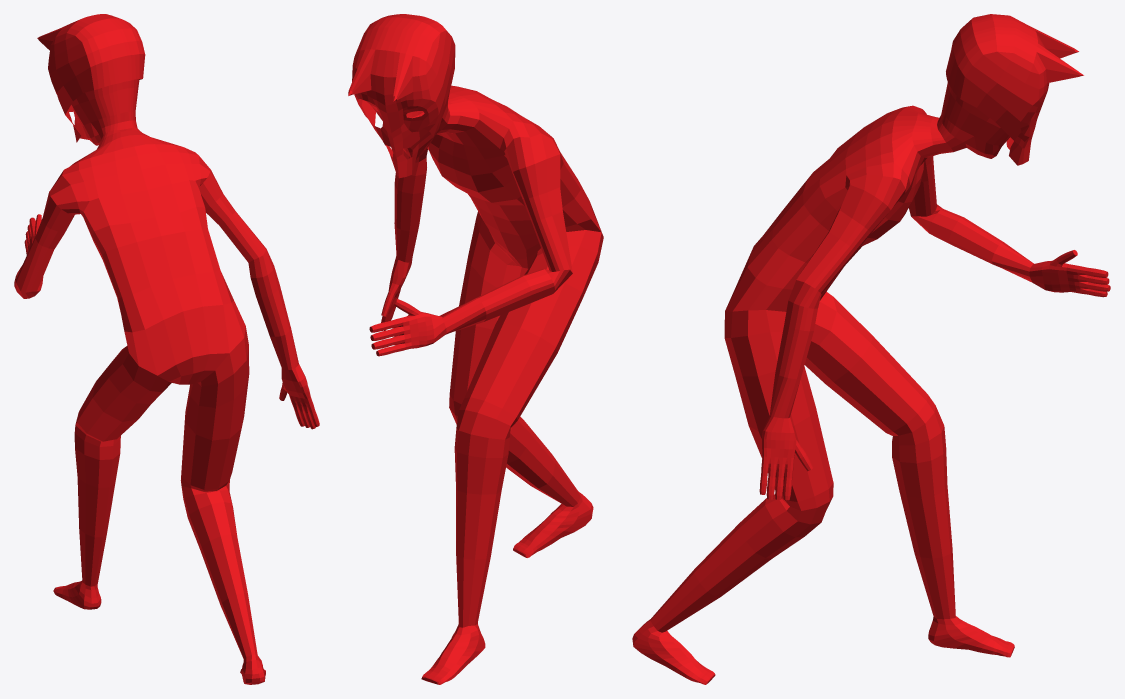
Rendered from saltoadelanteE_000151.obj.
3 renders of one model, left to right at view 1: azimuth 30°, elevation 25°; view 2: azimuth 150°, elevation 25°; view 3: azimuth 270°, elevation 25°, orthographic. The views are drawn at different scales.
Parts seen in each view (by area): view 1: Plane.002_Plane.001; view 2: Plane.002_Plane.001; view 3: Plane.002_Plane.001.
Part boxes in pixels (x1,y1,x2,y2): Plane.002_Plane.001: [14, 14, 319, 684]; Plane.002_Plane.001: [348, 14, 603, 684]; Plane.002_Plane.001: [632, 14, 1110, 684].
Size of the model in its own units: 2.5 by 5.88 by 3.94.
